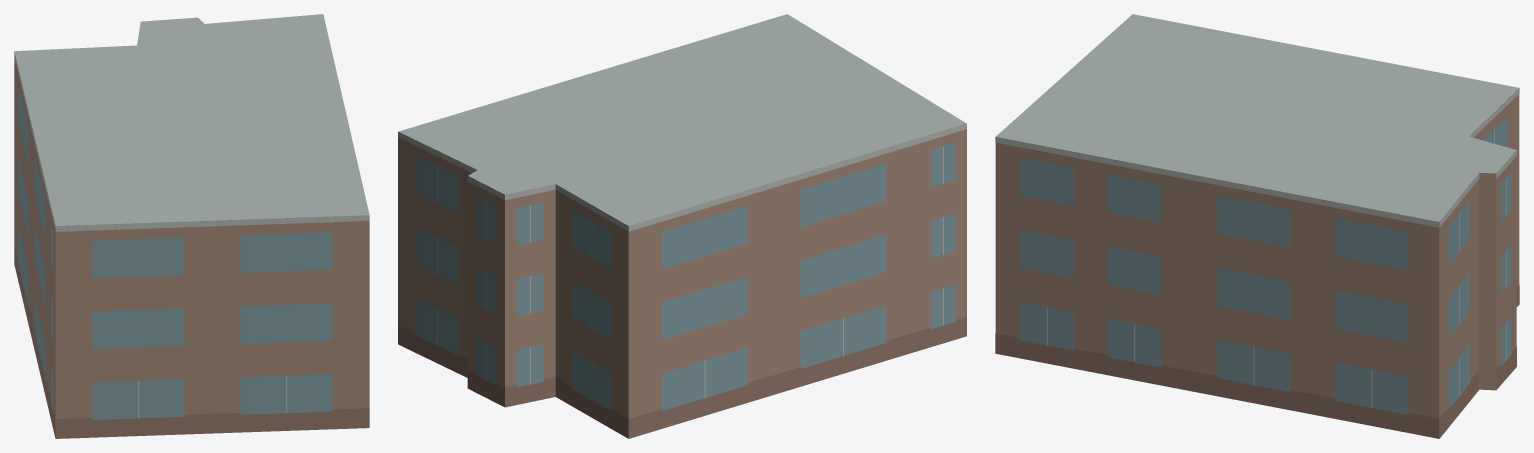
File: survey-upis-32480886.glb
3 renders of one model, left to right at view 1: azimuth 30°, elevation 25°; view 2: azimuth 150°, elevation 25°; view 3: azimuth 270°, elevation 25°, orthographic.
Visible parts, largest first — view 1: survey-upis-32480886.tmp; view 2: survey-upis-32480886.tmp; view 3: survey-upis-32480886.tmp.
Boxes of the visible parts, x1,y1,x2,y2 form: survey-upis-32480886.tmp: (14, 14, 369, 438); survey-upis-32480886.tmp: (398, 14, 966, 438); survey-upis-32480886.tmp: (995, 14, 1519, 438).
Size of the model in its own units: 18.83 by 9.15 by 20.04.
